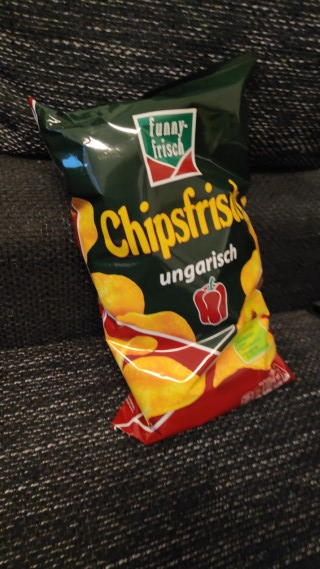chipsfrisch: (26, 49, 299, 447)
